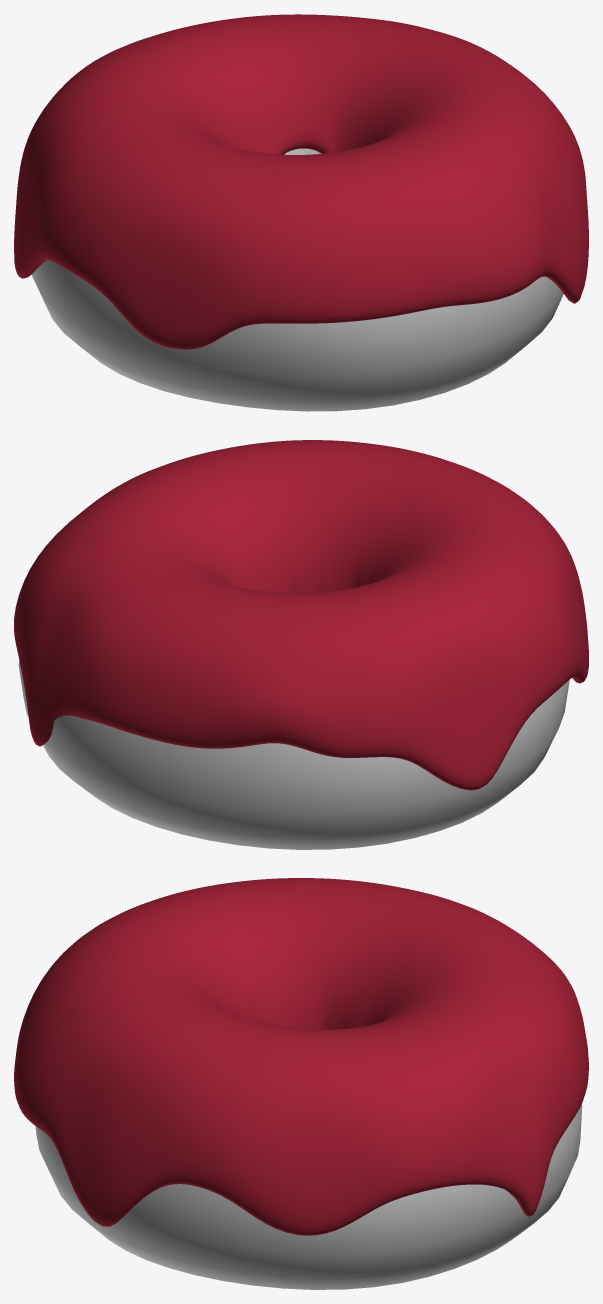
Rendered from donut.obj.
3 views of the same model, one above another, from view 1: azimuth 30°, elevation 25°; view 2: azimuth 150°, elevation 25°; view 3: azimuth 270°, elevation 25° (orthographic).
Visible parts, largest first — view 1: Icing, Donut; view 2: Icing, Donut; view 3: Icing, Donut.
Part boxes in pixels (x1=…): Icing: x1=14, y1=14, x2=588, y2=349; Donut: x1=31, y1=148, x2=563, y2=411; Icing: x1=14, y1=440, x2=588, y2=790; Donut: x1=18, y1=661, x2=569, y2=849; Icing: x1=14, y1=878, x2=588, y2=1235; Donut: x1=35, y1=1104, x2=582, y2=1289.
Bounding box in the file's own units: 0.3118 × 0.1446 × 0.3094.
